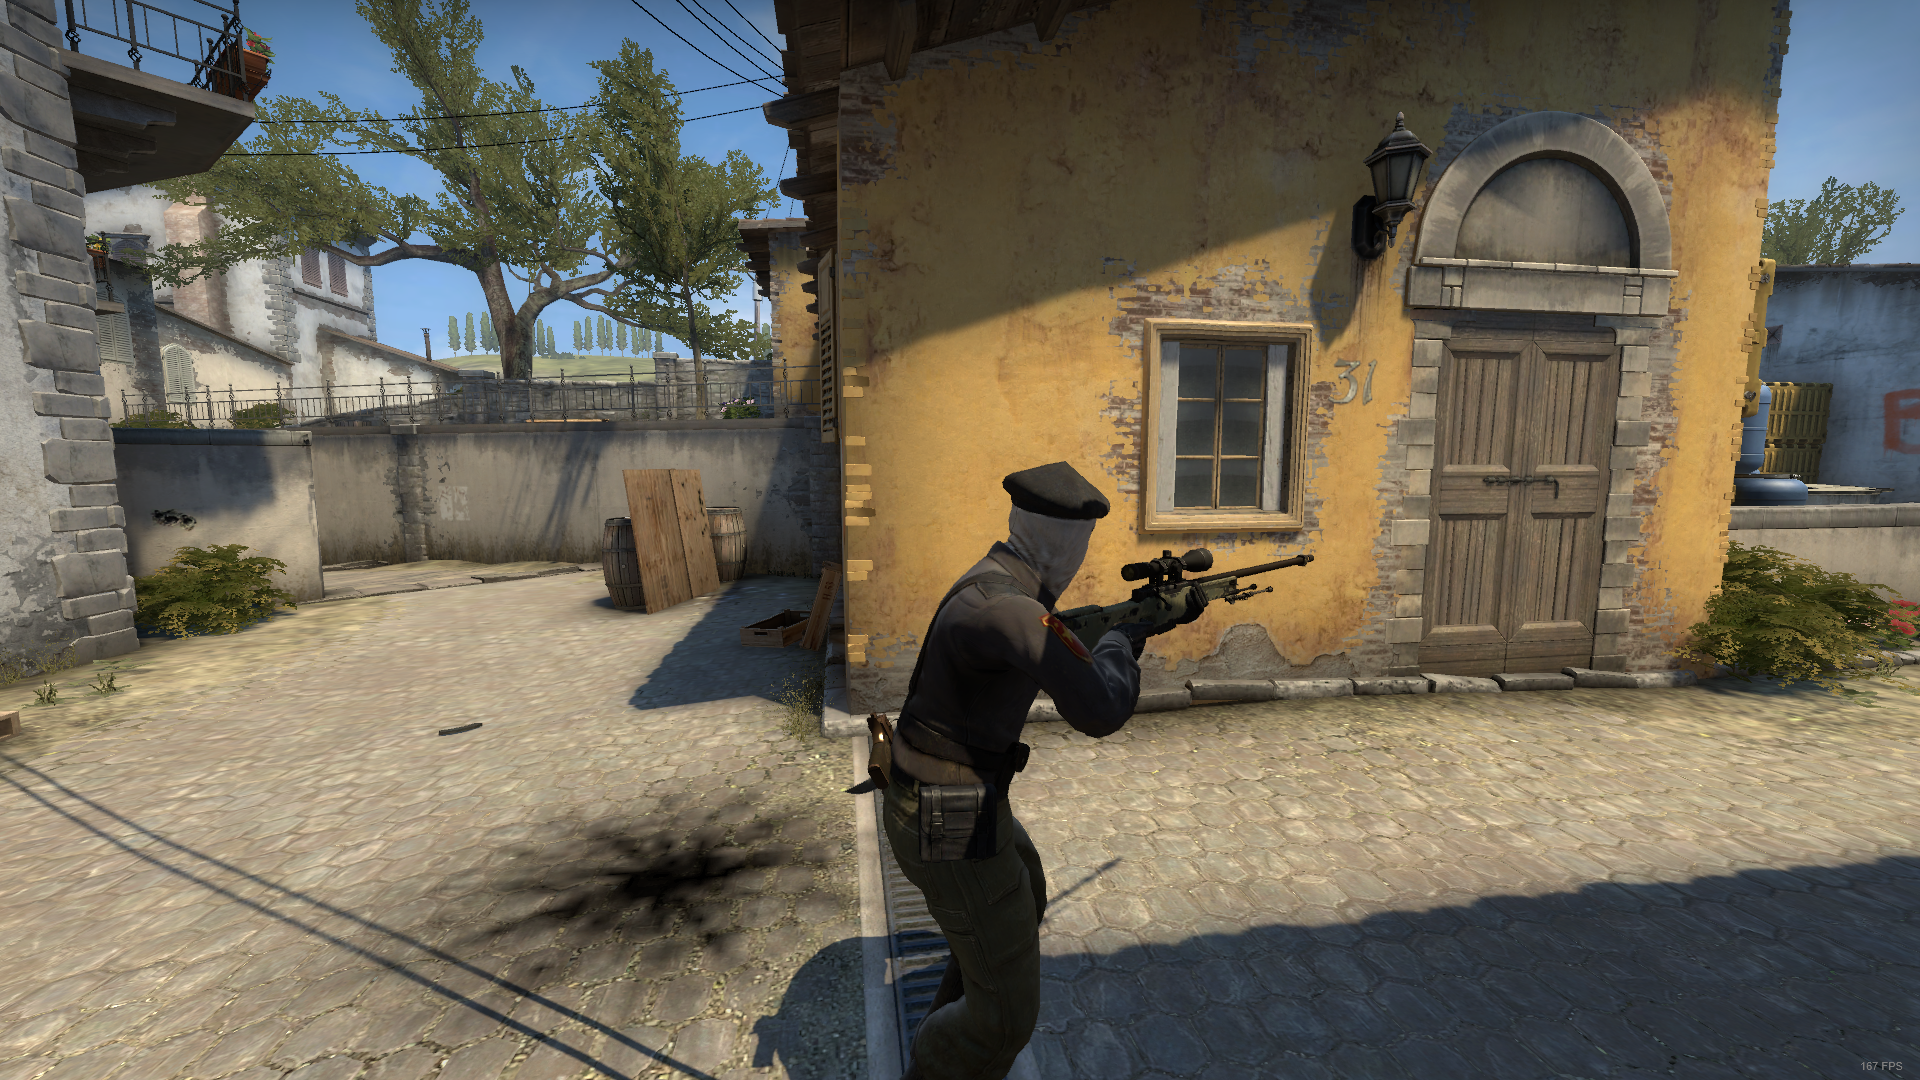t: (887, 460, 1156, 1080)
